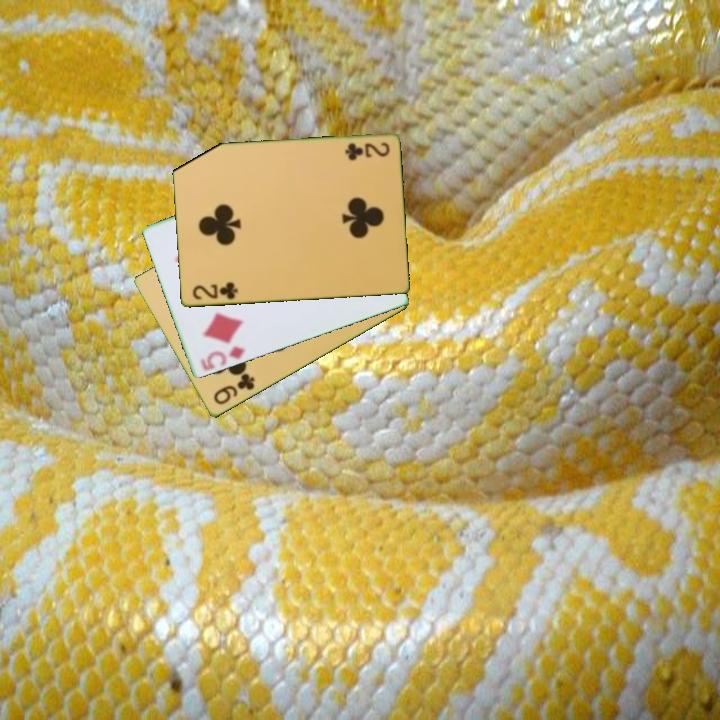2c: (189, 279, 240, 303), (341, 139, 392, 161)
5d: (197, 343, 248, 374)
9c: (210, 370, 258, 408)
